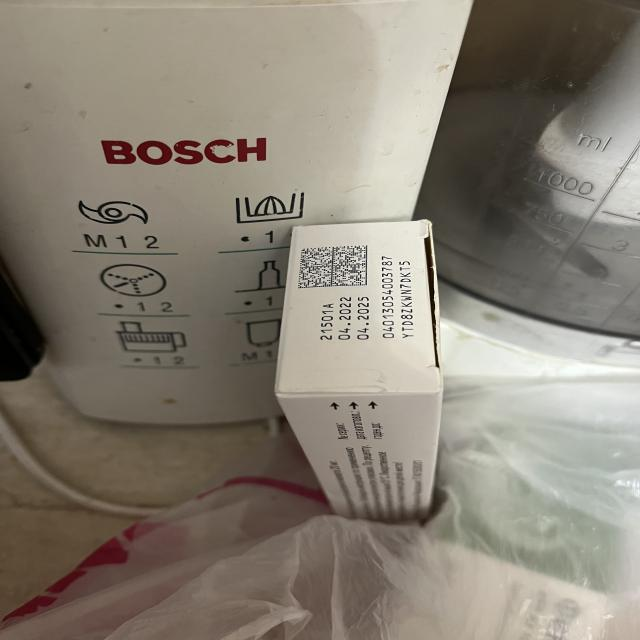datamatrix: (299, 246, 369, 290)
